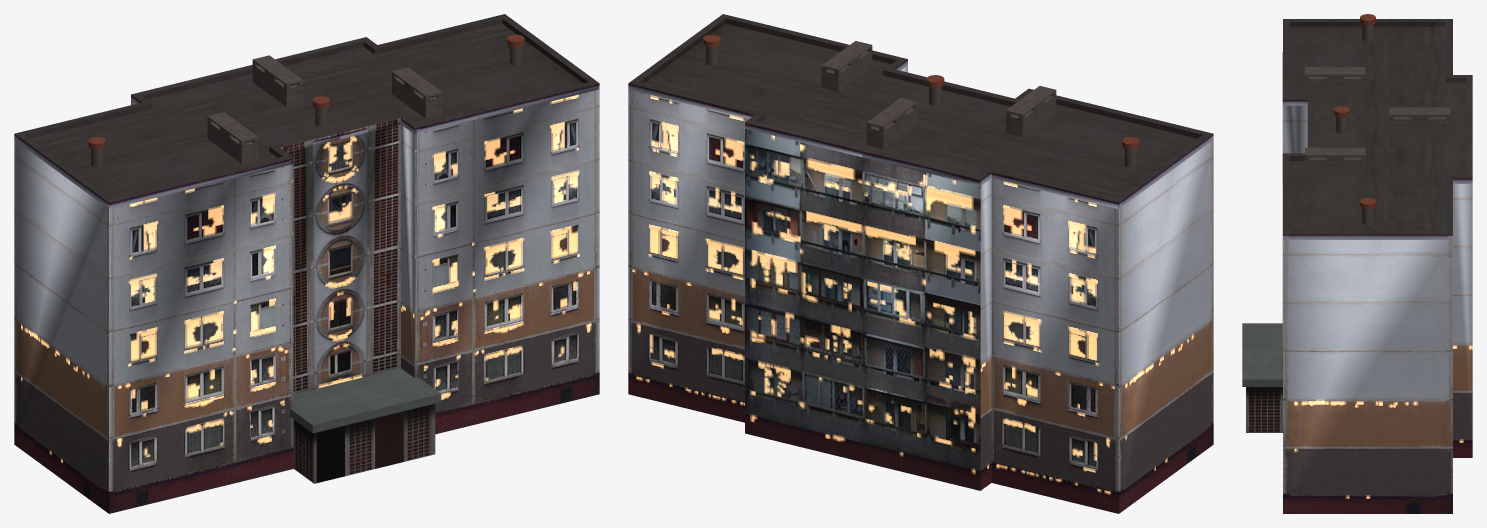
Rendered from sov_p5.glb.
3 renders of one model, left to right at view 1: azimuth 30°, elevation 25°; view 2: azimuth 150°, elevation 25°; view 3: azimuth 270°, elevation 25°, orthographic. The views are drawn at different scales.
Parts seen in each view (by area): view 1: spah9lvl; view 2: spah9lvl; view 3: spah9lvl.
Boxes of the visible parts, bbox=[...] form: spah9lvl: bbox=[14, 14, 599, 513]; spah9lvl: bbox=[628, 14, 1213, 513]; spah9lvl: bbox=[1242, 14, 1472, 513].
Size of the model in its own units: 29.3 by 18.85 by 13.27.
Materials: 1 (1 with a texture image).
